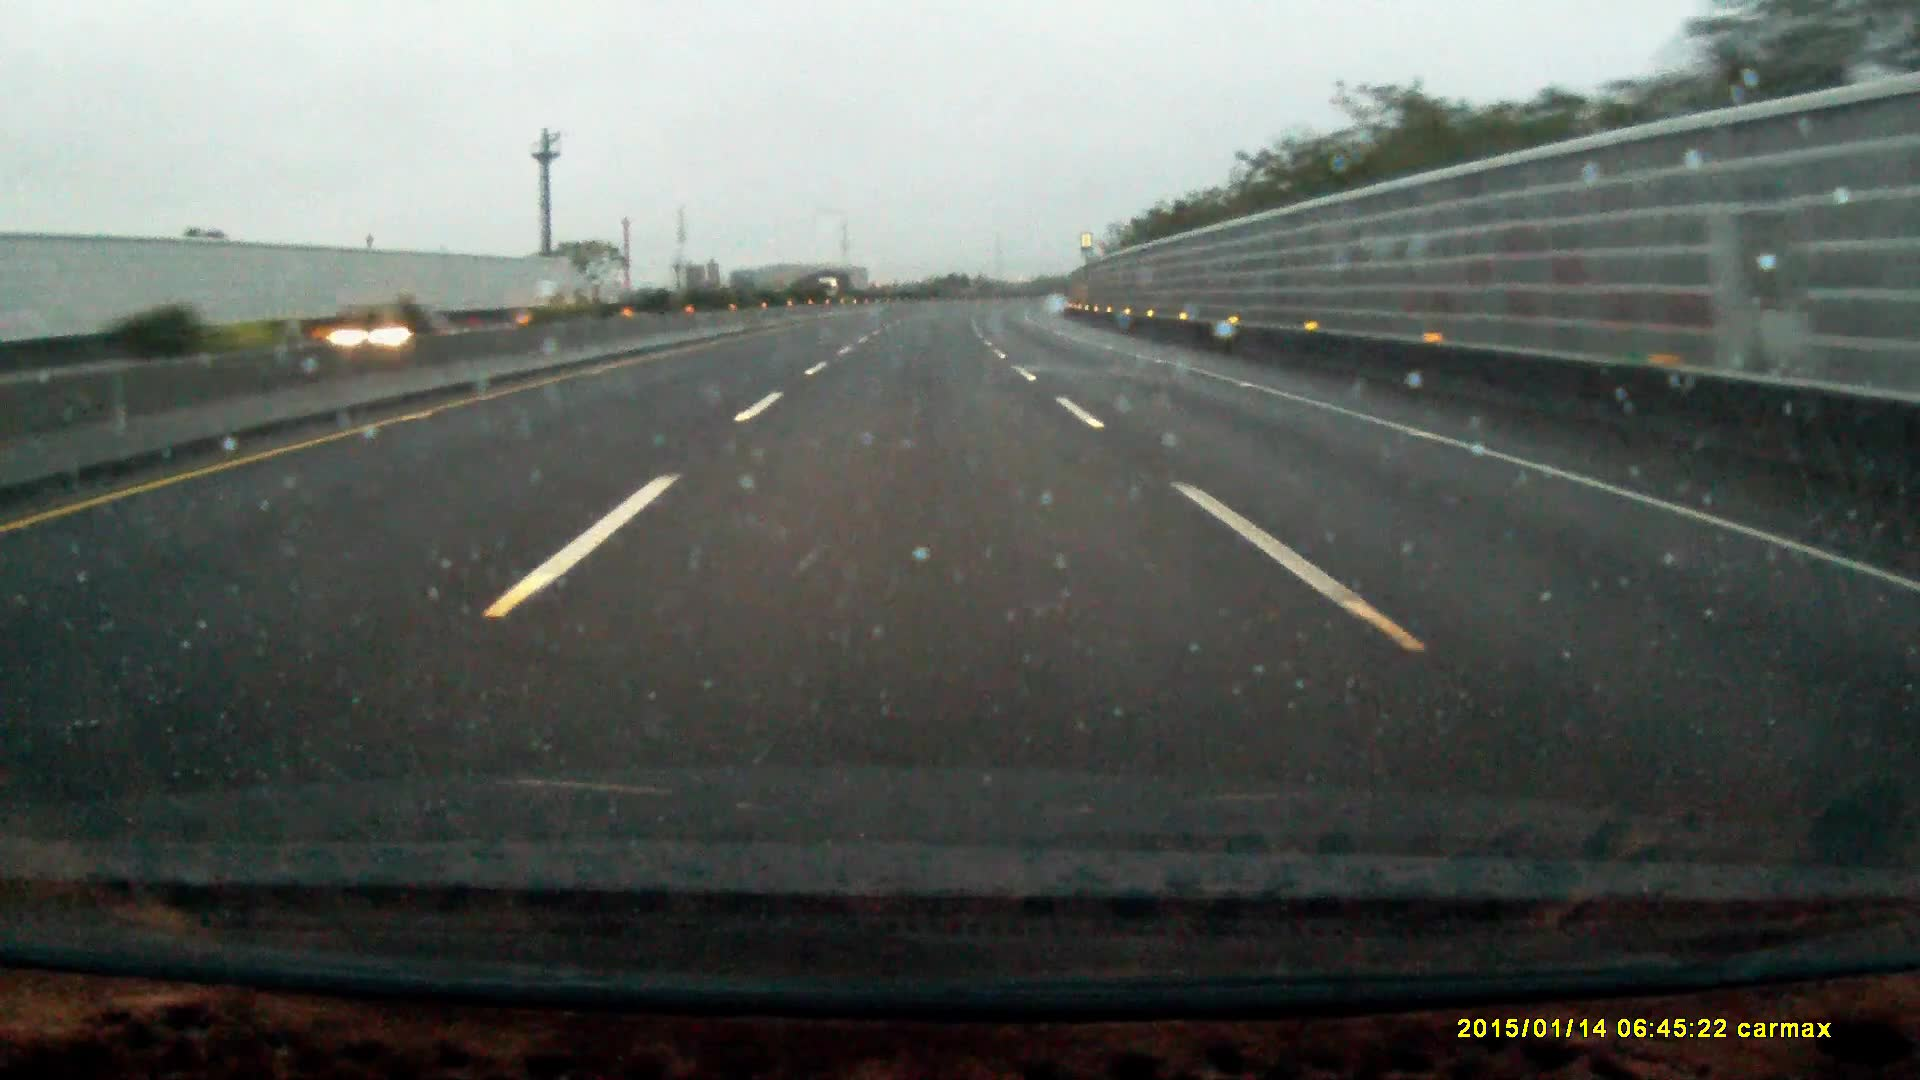vehicle: (320, 299, 451, 371), (816, 268, 851, 305)
